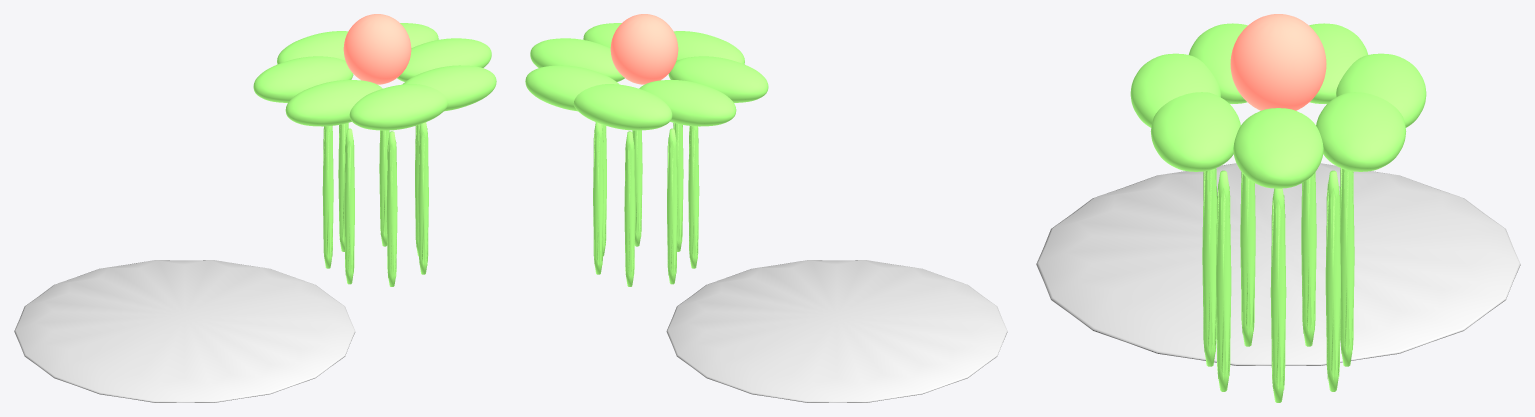
File: farm_gather_herb_v3.glb
3 renders of one model, left to right at view 1: azimuth 30°, elevation 25°; view 2: azimuth 150°, elevation 25°; view 3: azimuth 270°, elevation 25°, orthographic. The views are drawn at different scales.
Parts seen in each view (by area): view 1: soil.012, flw, lf_5, lf_4, lf_3, lf_6, lf_0, st_6, st_4.003, st_5.003, st_3.003, lf_2 (+4 smaller); view 2: soil.012, flw, lf_2, lf_3, lf_4, lf_1, lf_0, st_1.003, st_3.003, st_2.003, st_4.003, lf_5 (+4 smaller); view 3: soil.012, flw, lf_0, lf_1, lf_6, lf_2, lf_5, st_1.003, st_6, st_0.003, st_2.003, st_5.003 (+4 smaller).
Part boxes in pixels (<box>): soil.012: <box>14,260,355,402</box>; flw: <box>343,14,411,84</box>; lf_5: <box>349,84,448,130</box>; lf_4: <box>285,80,382,126</box>; lf_3: <box>253,56,353,102</box>; lf_6: <box>402,65,496,111</box>; lf_0: <box>397,38,491,81</box>; st_6: <box>418,122,428,274</box>; st_4.003: <box>344,128,354,284</box>; st_5.003: <box>386,131,397,286</box>; st_3.003: <box>322,126,333,268</box>; lf_2: <box>277,31,348,64</box>; soil.012: <box>666,260,1007,402</box>; flw: <box>610,14,678,84</box>; lf_2: <box>573,84,672,130</box>; lf_3: <box>639,80,736,126</box>; lf_4: <box>668,56,768,102</box>; lf_1: <box>525,65,619,111</box>; lf_0: <box>530,38,624,81</box>; st_1.003: <box>593,122,603,274</box>; st_3.003: <box>667,128,677,284</box>; st_2.003: <box>624,131,635,286</box>; st_4.003: <box>688,126,699,268</box>; lf_5: <box>673,31,744,64</box>; soil.012: <box>1036,163,1520,365</box>; flw: <box>1230,14,1326,110</box>; lf_0: <box>1233,108,1323,188</box>; lf_1: <box>1316,92,1406,171</box>; lf_6: <box>1150,92,1240,171</box>; lf_2: <box>1336,53,1426,127</box>; lf_5: <box>1130,53,1220,127</box>; st_1.003: <box>1325,170,1340,391</box>; st_6: <box>1216,170,1231,391</box>; st_0.003: <box>1270,188,1286,402</box>; st_2.003: <box>1340,168,1354,366</box>; st_5.003: <box>1202,168,1216,366</box>.
Bounding box in the file's own units: 0.8405 × 0.5059 × 0.552.
